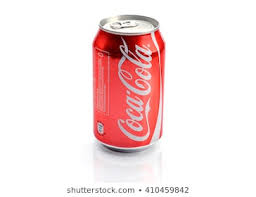coke: (92, 14, 167, 154)
